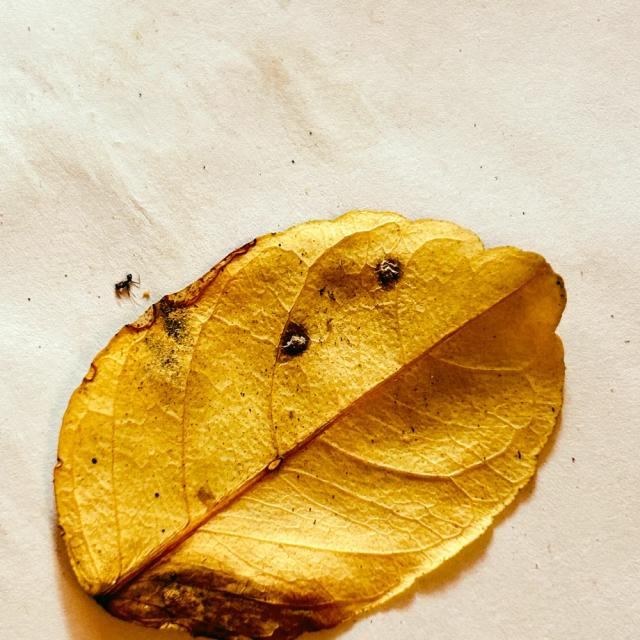DryLeaf_Lemon: (54, 211, 566, 639)
